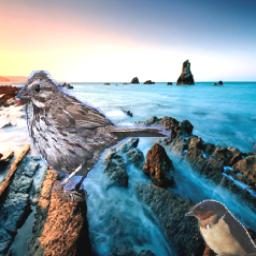Sparrow: (16, 66, 172, 201)
Swallow: (186, 200, 256, 256)
